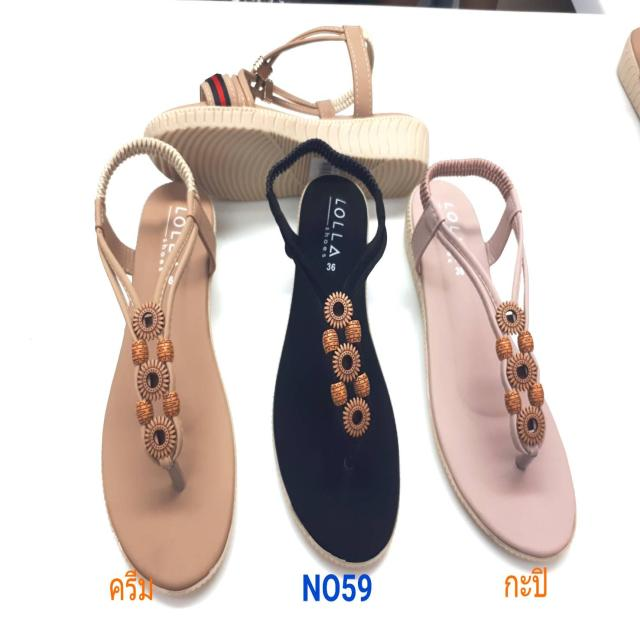black: (268, 181, 402, 577)
cream: (106, 181, 236, 586)
kapi: (410, 178, 572, 561)
